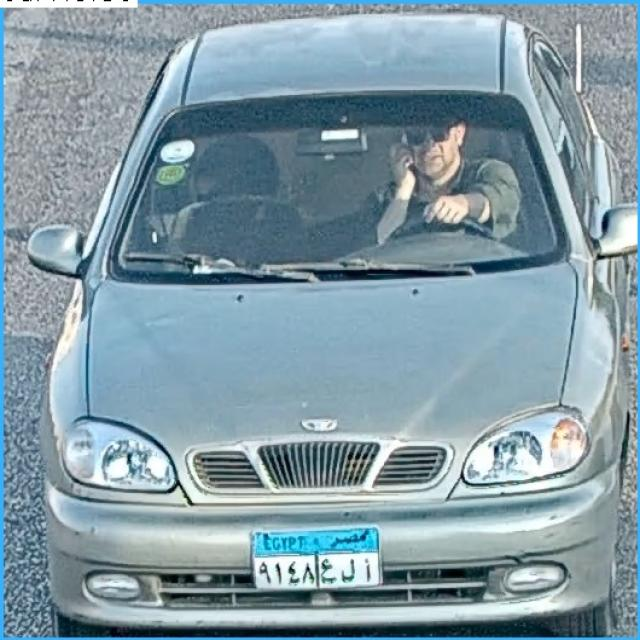windshield: (110, 106, 564, 264)
